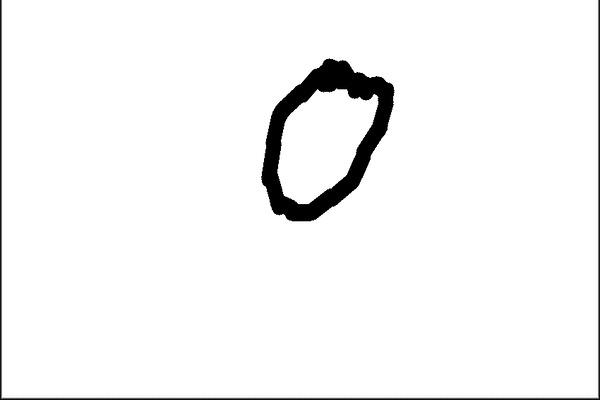O: (250, 47, 394, 230)
